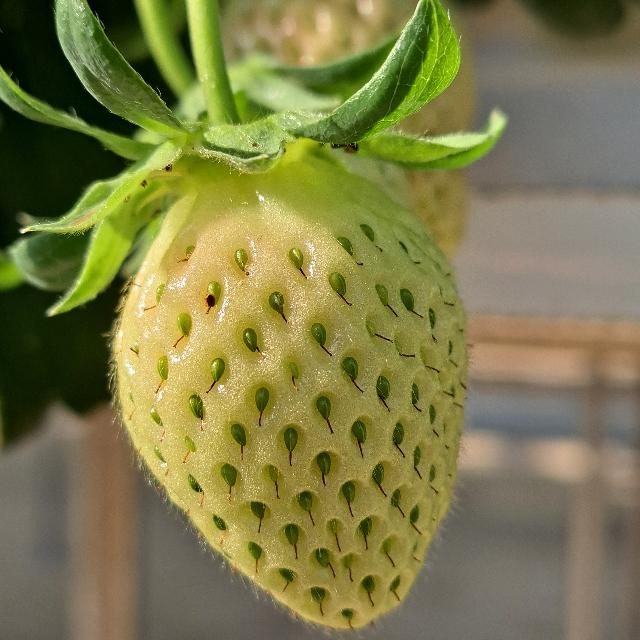Health_25: (111, 155, 468, 630)
